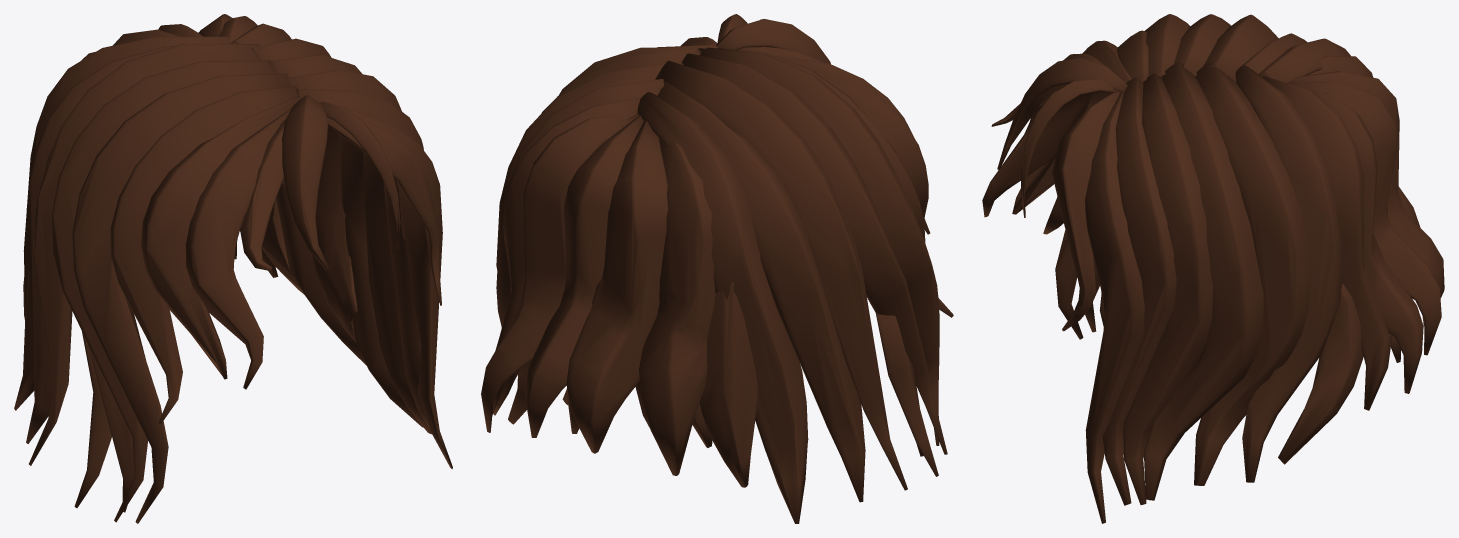
3 views of the same model, side by side, from view 1: azimuth 30°, elevation 25°; view 2: azimuth 150°, elevation 25°; view 3: azimuth 270°, elevation 25° (orthographic). The views are drawn at different scales.
Visible parts, largest first — view 1: hairMediumShaggy; view 2: hairMediumShaggy; view 3: hairMediumShaggy.
Boxes of the visible parts, left/top/right/bottom form: hairMediumShaggy: left=14, top=14, right=452, bottom=523; hairMediumShaggy: left=481, top=14, right=953, bottom=523; hairMediumShaggy: left=982, top=14, right=1444, bottom=523.
Bounding box in the file's own units: 0.5454 × 0.584 × 0.606.
Materials: 1 (1 with a texture image).
